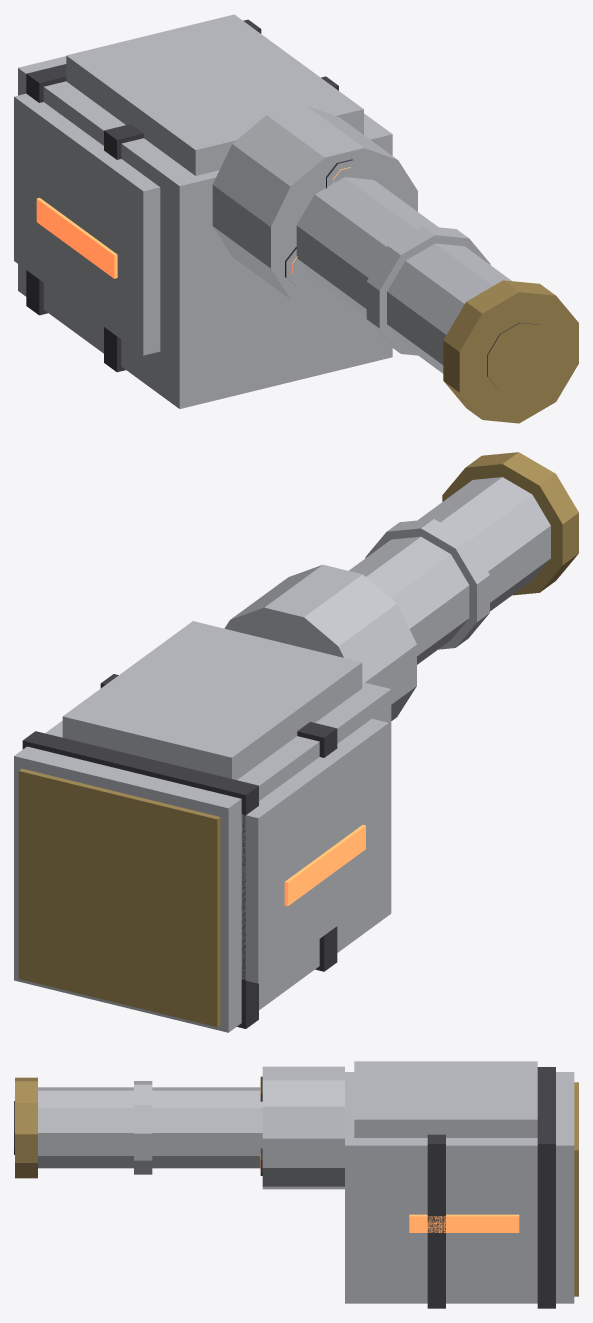
Rendered from warbull-launcher.glb.
The picture shows the model from 3 angles, top to bottom: view 1: azimuth 30°, elevation 25°; view 2: azimuth 150°, elevation 25°; view 3: azimuth 270°, elevation 25°; orthographic projection. The views are drawn at different scales.
Visible parts, largest first — view 1: WarbullLauncher, Barrels; view 2: WarbullLauncher, Barrels; view 3: WarbullLauncher, Barrels.
Part boxes in pixels (bbox=[...]): WarbullLauncher: bbox=[14, 14, 578, 423]; Barrels: bbox=[212, 105, 417, 311]; WarbullLauncher: bbox=[14, 452, 578, 1032]; Barrels: bbox=[224, 564, 416, 720]; WarbullLauncher: bbox=[14, 1061, 578, 1308]; Barrels: bbox=[260, 1066, 344, 1189].
Size of the model in its own units: 0.212 by 0.2367 by 0.616.
